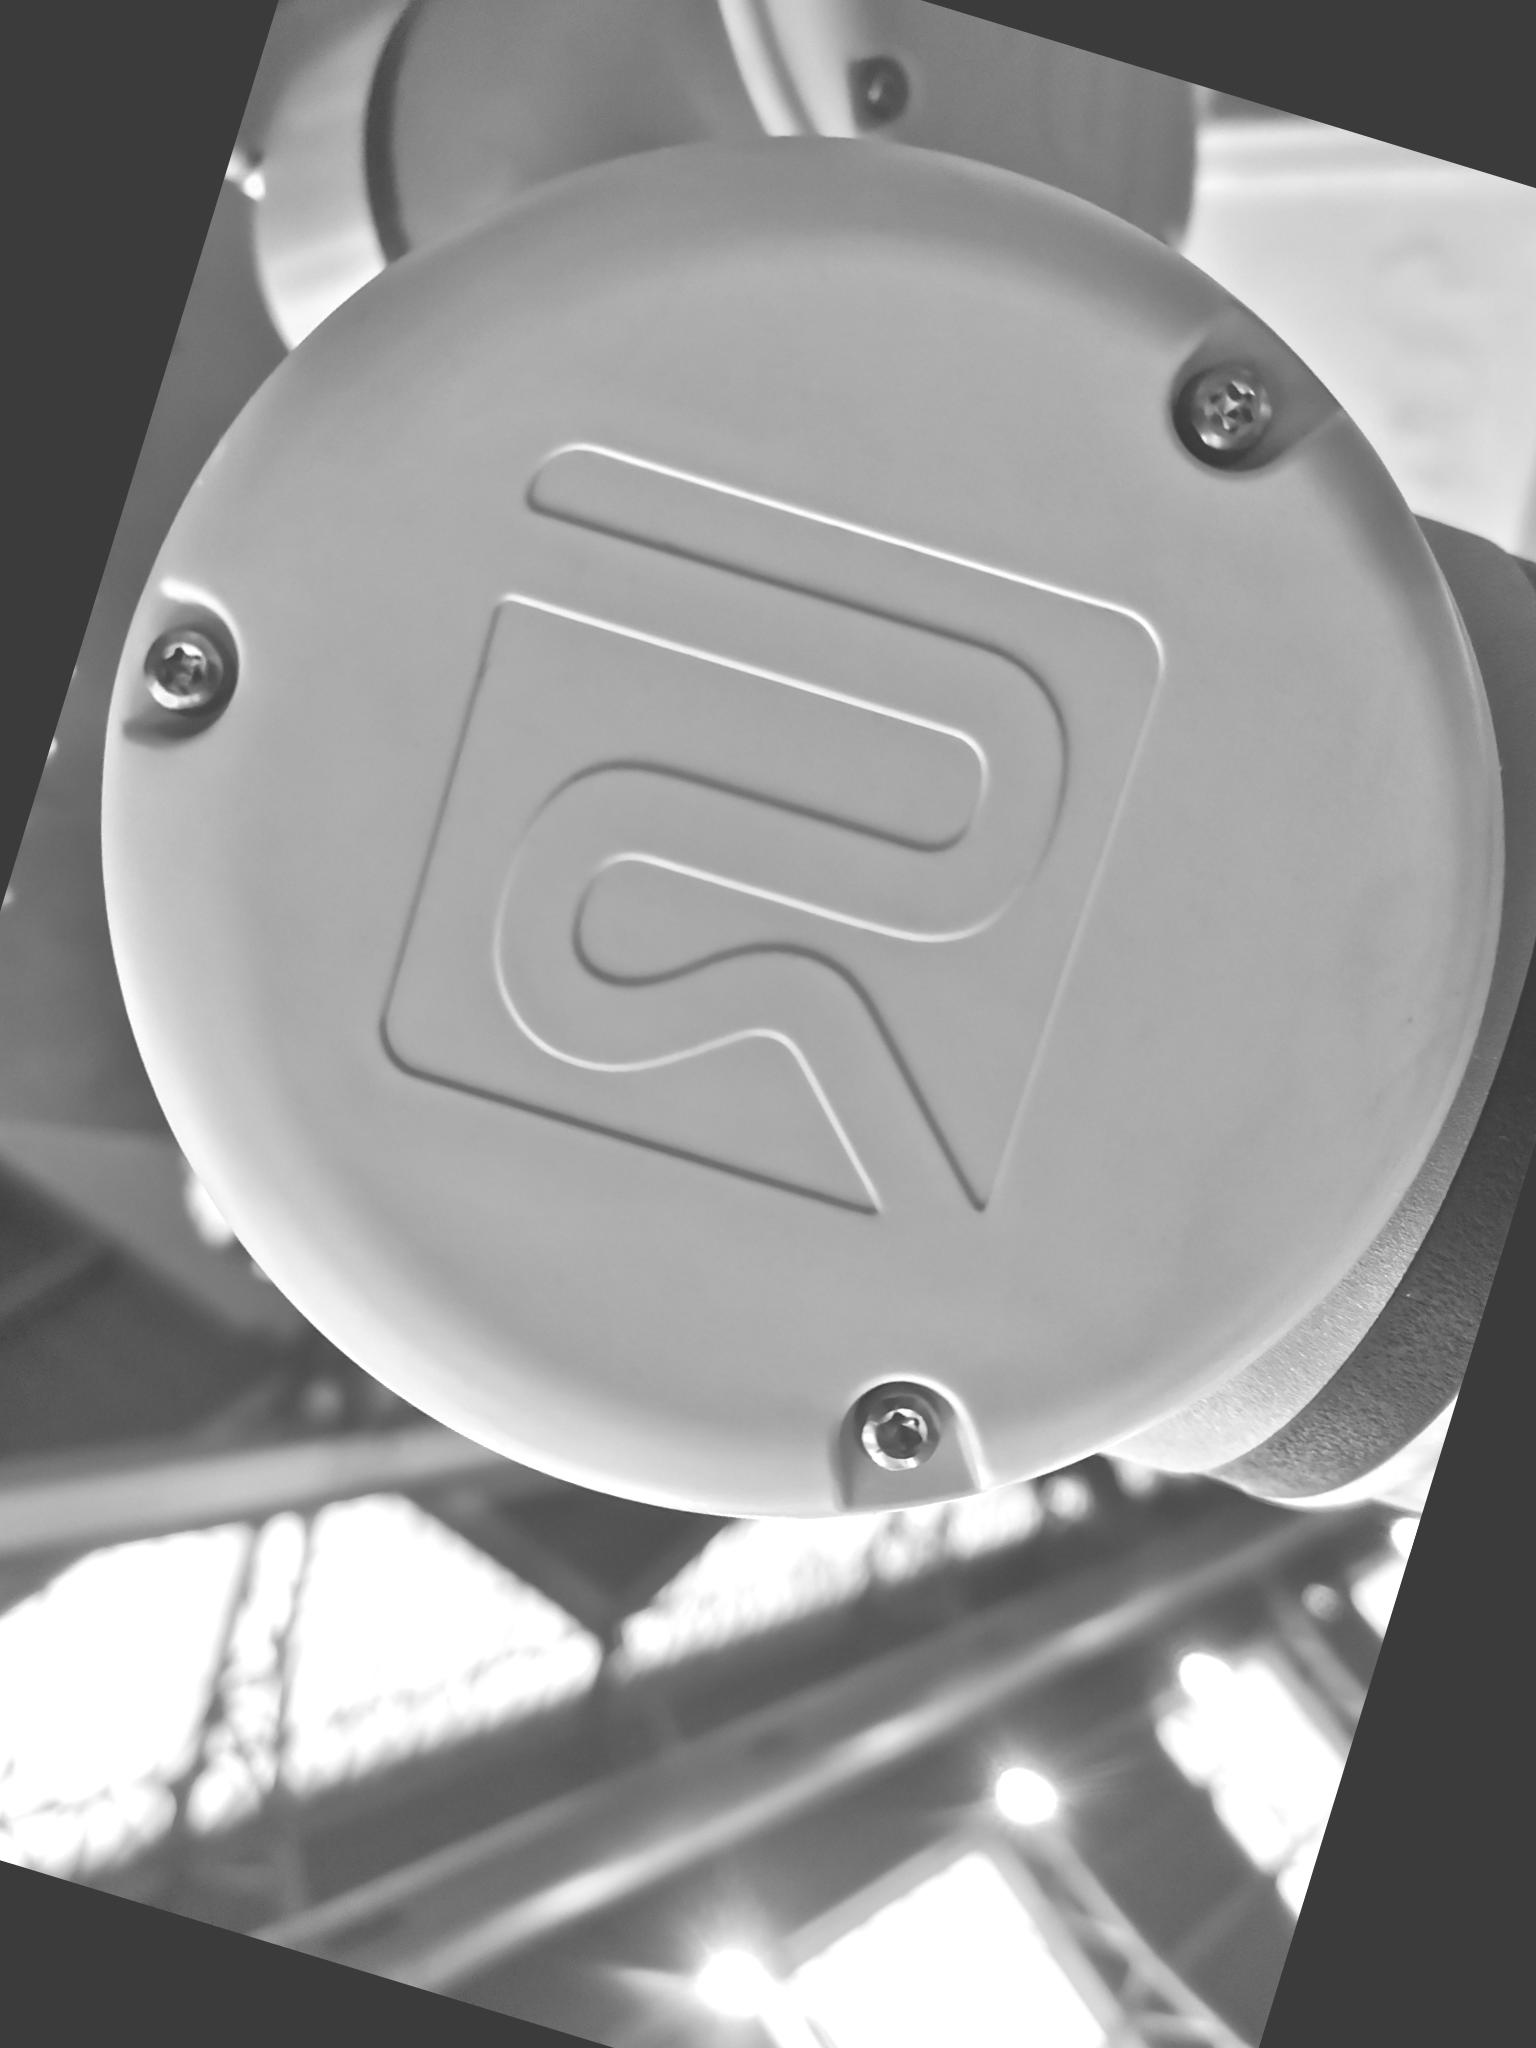torx: (1163, 343, 1299, 469), (127, 613, 244, 726), (841, 1377, 954, 1487)
